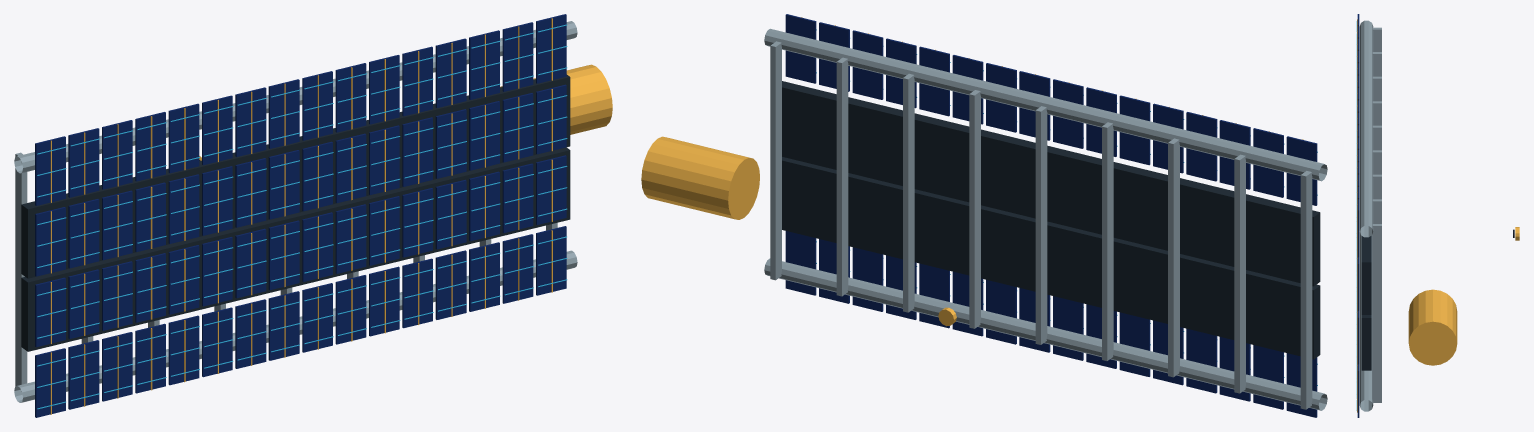
Rendered from 08_L84_PortSolarArrayWing.fbx.
The picture shows the model from 3 angles, left to right: view 1: azimuth 30°, elevation 25°; view 2: azimuth 150°, elevation 25°; view 3: azimuth 270°, elevation 25°; orthographic projection. The views are drawn at different scales.
Parts seen in each view (by area): view 1: L84_PortSolarArrayWing; view 2: L84_PortSolarArrayWing; view 3: L84_PortSolarArrayWing.
Part boxes in pixels (x1,y1,x2,y2): L84_PortSolarArrayWing: [14, 14, 612, 417]; L84_PortSolarArrayWing: [641, 14, 1327, 417]; L84_PortSolarArrayWing: [1356, 14, 1457, 417].
Size of the model in its own units: 516 by 217 by 155.
